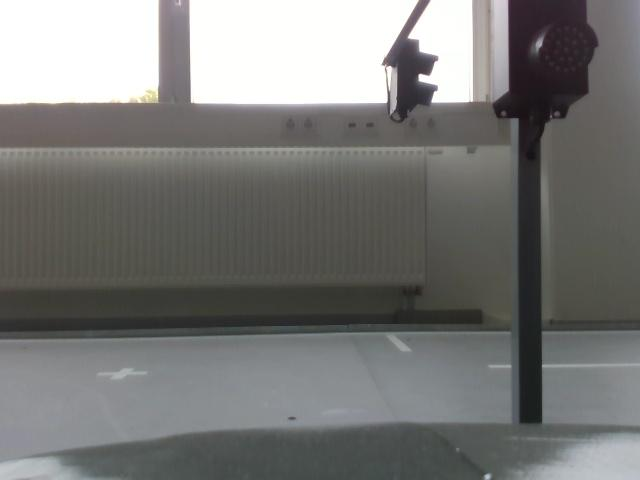traffic light: (493, 1, 591, 113), (388, 53, 442, 119)
